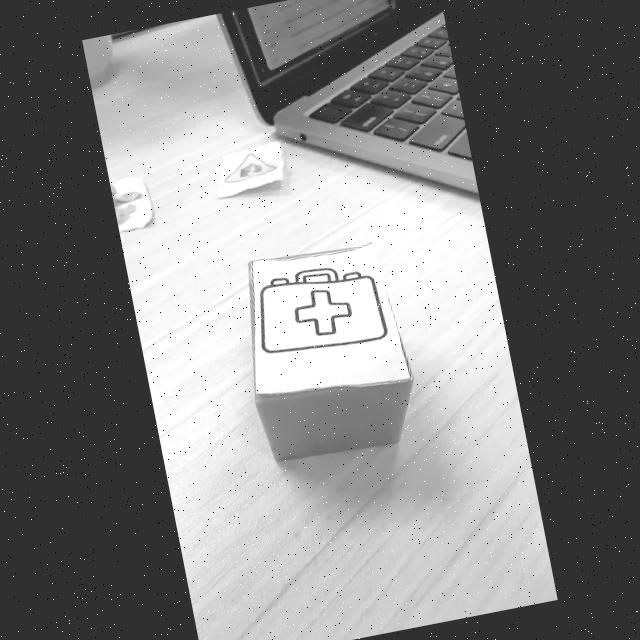Medkit: (257, 268, 388, 353)
